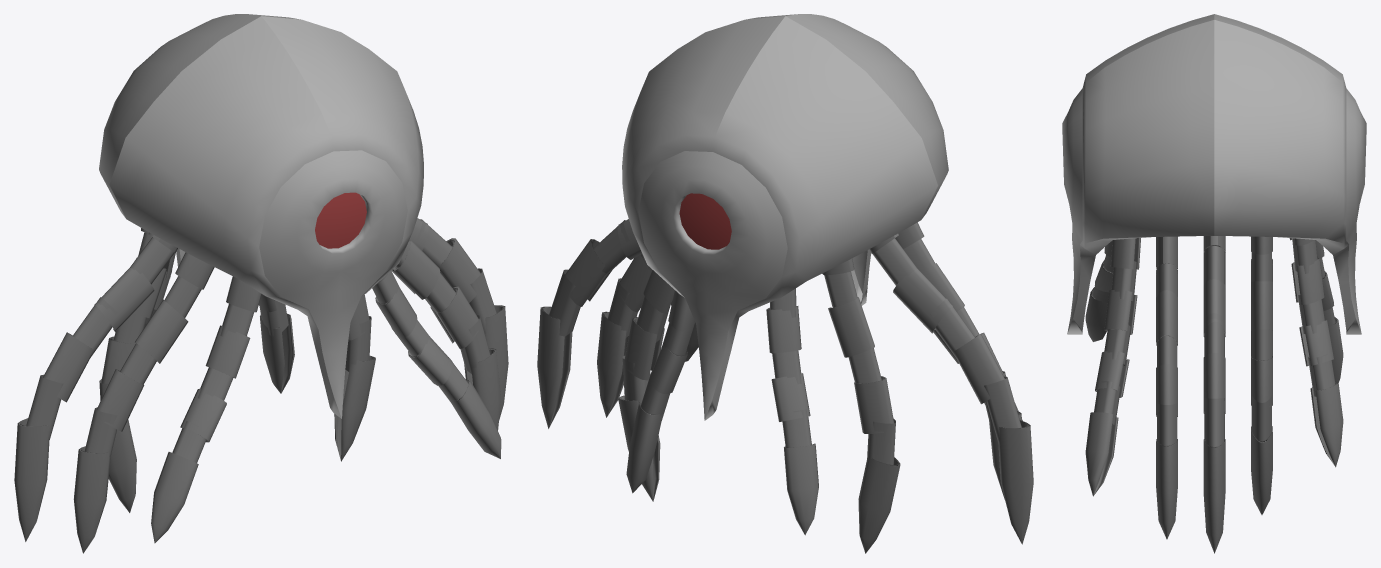
File: Enemy.fbx
3 renders of one model, left to right at view 1: azimuth 30°, elevation 25°; view 2: azimuth 150°, elevation 25°; view 3: azimuth 270°, elevation 25°, orthographic. The views are drawn at different scales.
Parts seen in each view (by area): view 1: polySurfaceShape10; view 2: polySurfaceShape10; view 3: polySurfaceShape10.
Part boxes in pixels (x1,y1,x2,y2): polySurfaceShape10: (14, 14, 508, 553); polySurfaceShape10: (537, 14, 1033, 553); polySurfaceShape10: (1062, 14, 1366, 553).
Size of the model in its own units: 11.21 by 10.64 by 6.54.
